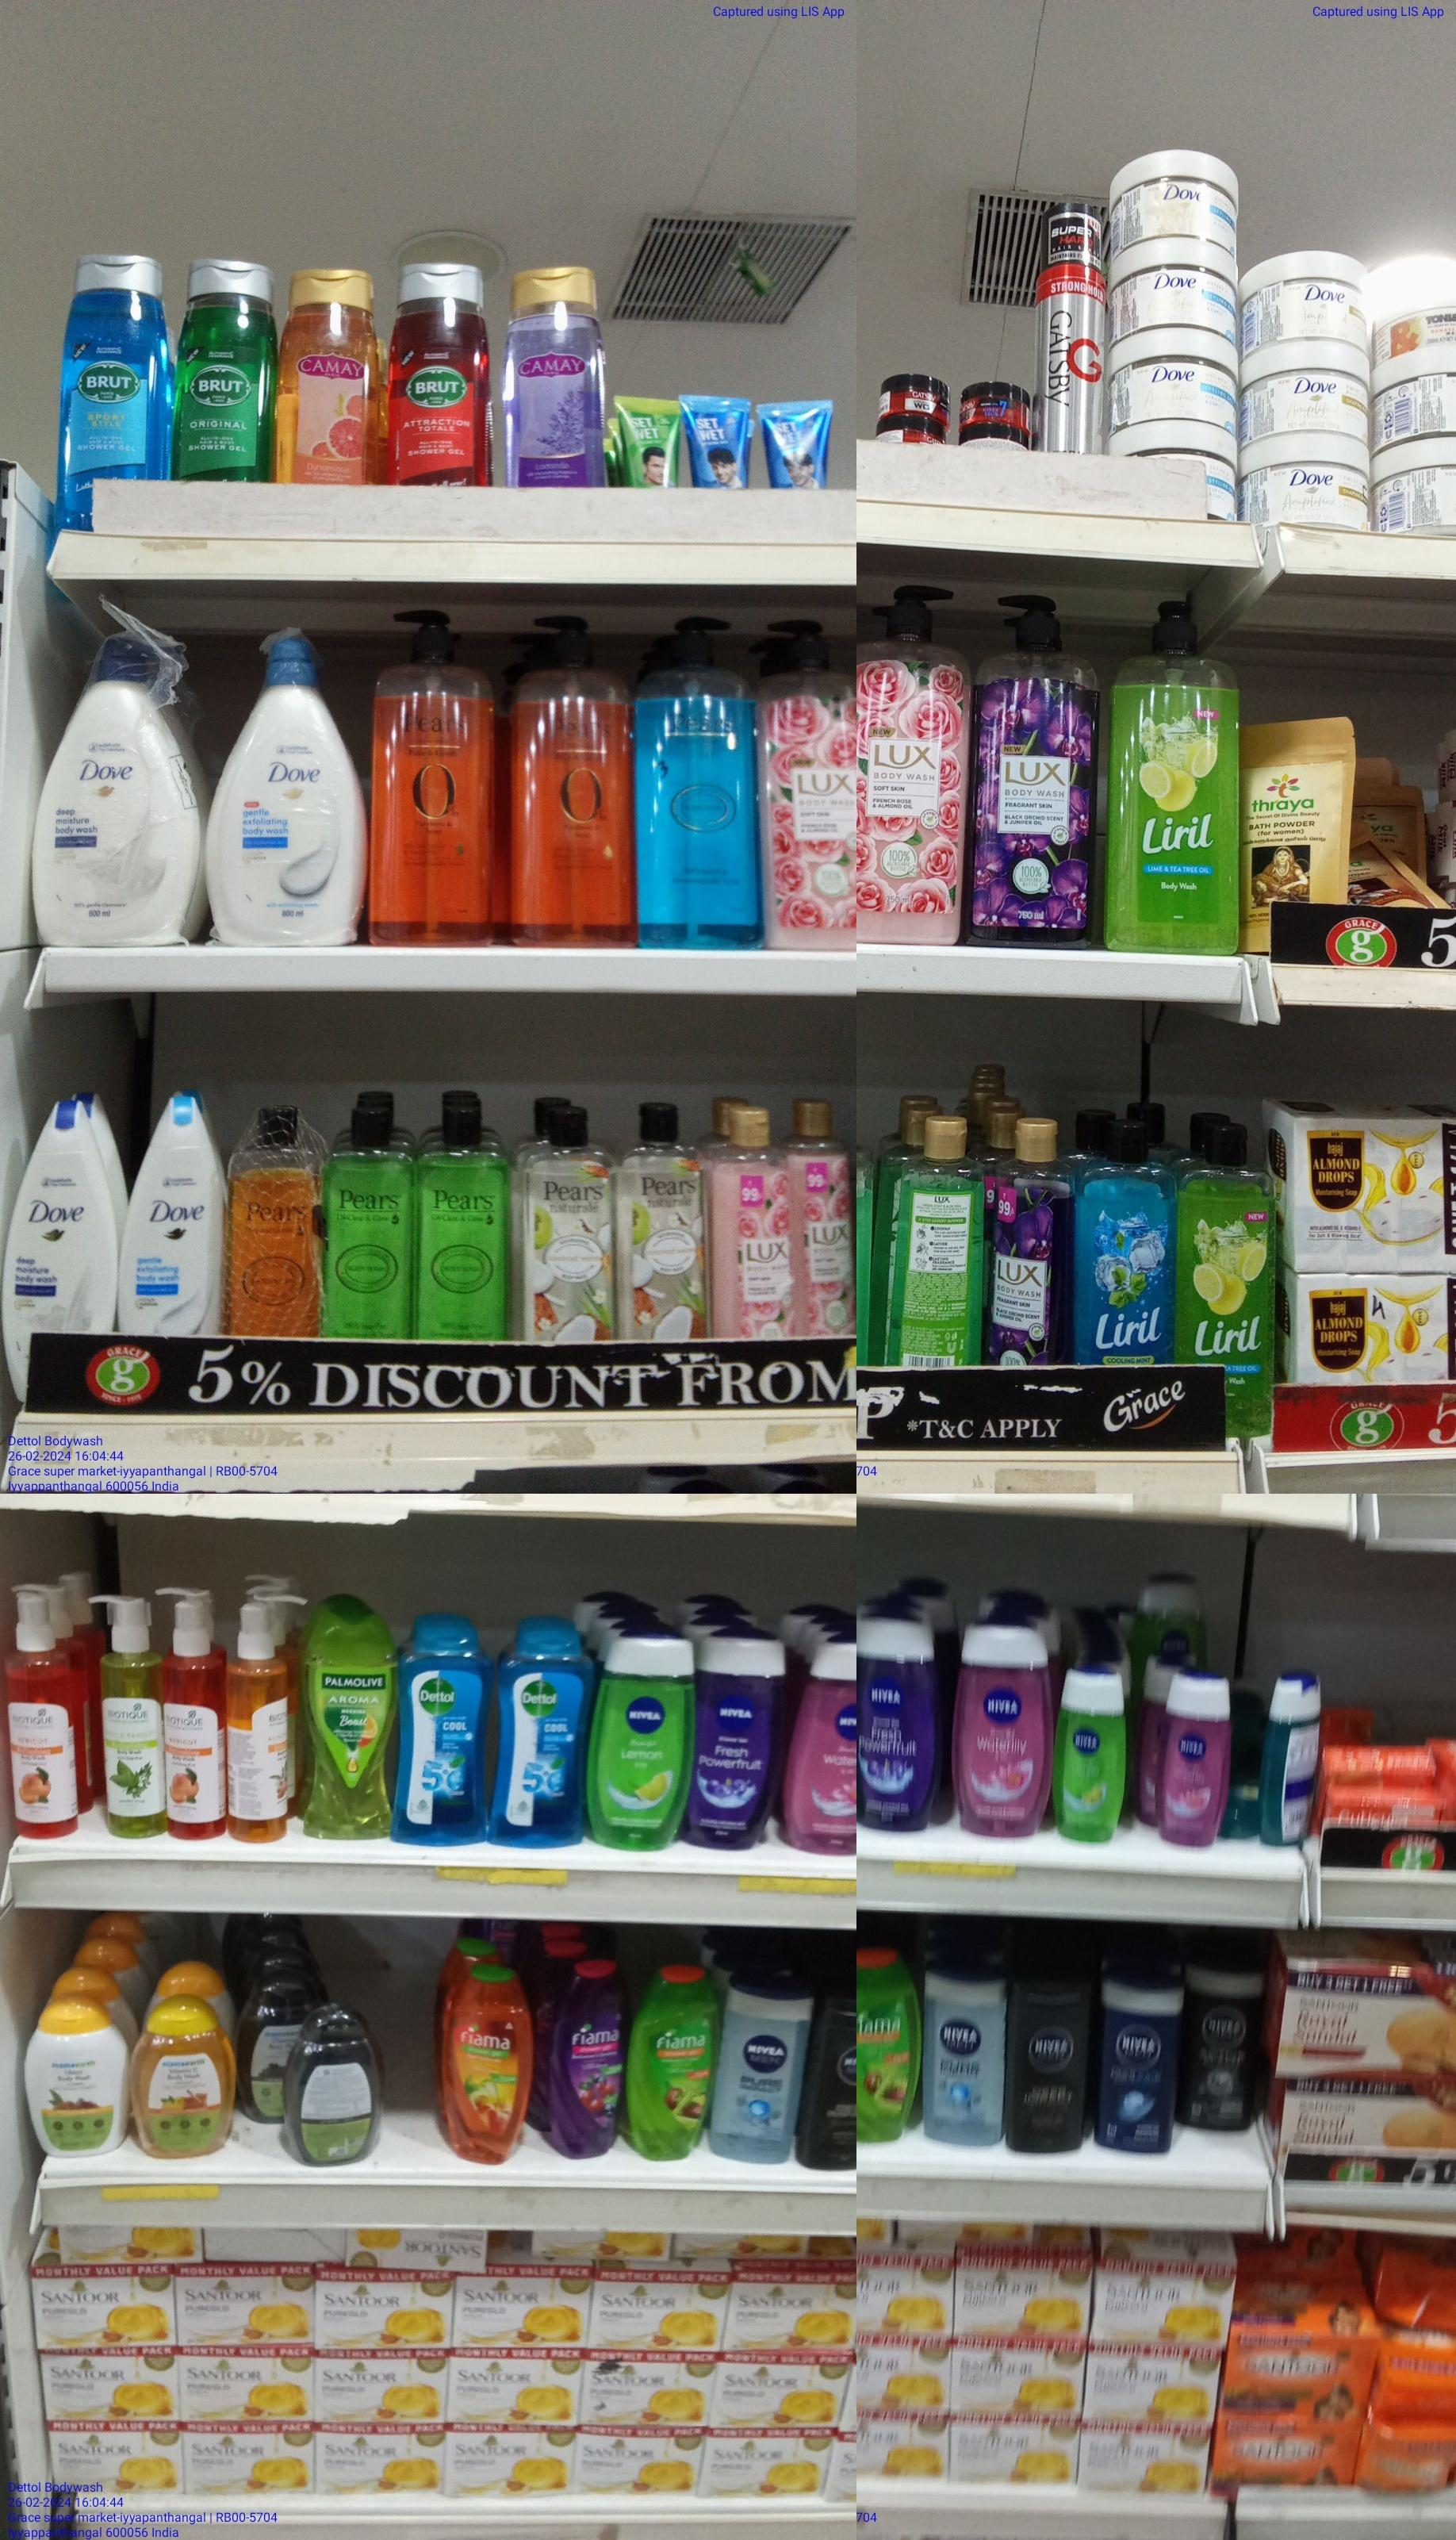Dettol_Bodywash_Cool: (392, 1621, 490, 1849), (493, 1610, 589, 1842)
Dove_Deep_Moisture_Body_Wash_250ML: (7, 1078, 115, 1338)
Dove_Gentle_Exfoliating_Body_Wash_250ML: (124, 1085, 220, 1333)
Fiama_Shower_Gel_Lemongrass_and_Jojoba_250ML: (626, 1956, 724, 2161)
Fiama_Shower_Gel_Peach_and_Avocado_250ML: (436, 1963, 534, 2167)
Liril_Cooling_Mint_Body_Wash_250ML: (1072, 1123, 1165, 1366)
Liril_Lime_and_Tea_Tree_Oil_Body_Wash_250ML: (1172, 1113, 1282, 1366)
Lux_Black_Orchid_Scent_and_Juniper_Oil_Body_Wash_245ML: (987, 1115, 1069, 1364)
Nivea_Shower_Gel_Fresh_Powerfruit_250ML: (696, 1626, 792, 1853), (854, 1605, 940, 1832)
Nivea_Shower_Gel_Lemon_and_Oil_250ML: (589, 1633, 694, 1854), (1062, 1666, 1130, 1842)
Nivea_Shower_Gel_Waterlily_and_Oil_250ML: (952, 1617, 1058, 1835), (1153, 1669, 1231, 1840)
Palmolive_Aroma_Morning_Tonic_Shower_Gel_250ML: (305, 1605, 392, 1837)
